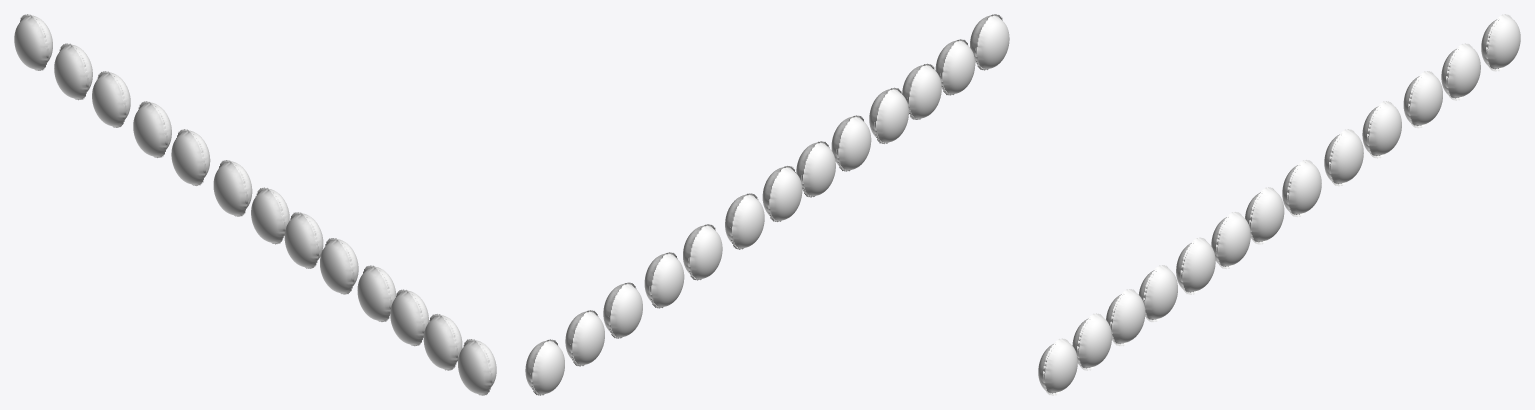
File: PopInPopOn.fbx
The picture shows the model from 3 angles, left to right: view 1: azimuth 30°, elevation 25°; view 2: azimuth 150°, elevation 25°; view 3: azimuth 330°, elevation 25°; orthographic projection.
Visible parts, largest first — view 1: PopIn.018, PopIn.019, PopIn.015, PopIn.009, PopIn.008, PopIn.010, PopIn.011, PopIn.013, PopIn.014, PopIn.017, PopIn.004, PopIn.016 (+1 smaller); view 2: PopIn.019, PopIn.011, PopIn.015, PopIn.012, PopIn.010, PopIn.013, PopIn.016, PopIn.014, PopIn.018, PopIn.004, PopIn.017, PopIn.009 (+1 smaller); view 3: PopUp.017, PopUp.011, PopUp.012, PopUp.015, PopUp.014, PopUp.019, PopUp.004, PopUp.018, PopUp.008, PopUp.010, PopUp.009, PopUp.016 (+1 smaller).
Boxes of the visible parts, left/top/right/bottom form: PopIn.018: left=423, top=315, right=457, bottom=370; PopIn.019: left=458, top=340, right=492, bottom=395; PopIn.015: left=320, top=239, right=354, bottom=294; PopIn.009: left=92, top=73, right=126, bottom=127; PopIn.008: left=54, top=45, right=88, bottom=100; PopIn.010: left=133, top=103, right=167, bottom=157; PopIn.011: left=171, top=131, right=205, bottom=185; PopIn.013: left=251, top=189, right=285, bottom=244; PopIn.014: left=284, top=214, right=318, bottom=268; PopIn.017: left=390, top=291, right=424, bottom=346; PopIn.004: left=14, top=16, right=48, bottom=70; PopIn.016: left=357, top=267, right=391, bottom=321; PopIn.019: left=975, top=15, right=1009, bottom=70; PopIn.011: left=688, top=225, right=722, bottom=280; PopIn.015: left=836, top=117, right=871, bottom=171; PopIn.012: left=730, top=195, right=764, bottom=249; PopIn.010: left=649, top=254, right=684, bottom=308; PopIn.013: left=768, top=167, right=802, bottom=221; PopIn.016: left=874, top=89, right=908, bottom=143; PopIn.014: left=801, top=143, right=835, bottom=197; PopIn.018: left=940, top=41, right=975, bottom=95; PopIn.004: left=530, top=341, right=564, bottom=395; PopIn.017: left=907, top=65, right=941, bottom=119; PopIn.009: left=608, top=284, right=642, bottom=338; PopUp.017: left=1110, top=289, right=1145, bottom=343; PopUp.011: left=1329, top=129, right=1363, bottom=184; PopUp.012: left=1287, top=160, right=1321, bottom=214; PopUp.015: left=1180, top=237, right=1215, bottom=292; PopUp.014: left=1216, top=212, right=1250, bottom=266; PopUp.019: left=1043, top=338, right=1077, bottom=393; PopUp.004: left=1486, top=14, right=1520, bottom=69; PopUp.018: left=1077, top=313, right=1111, bottom=368; PopUp.008: left=1446, top=43, right=1480, bottom=98; PopUp.010: left=1367, top=101, right=1401, bottom=155; PopUp.009: left=1408, top=71, right=1442, bottom=125; PopUp.016: left=1143, top=265, right=1177, bottom=319.
Bounding box in the file's own units: 29.86 × 51.86 × 845.
